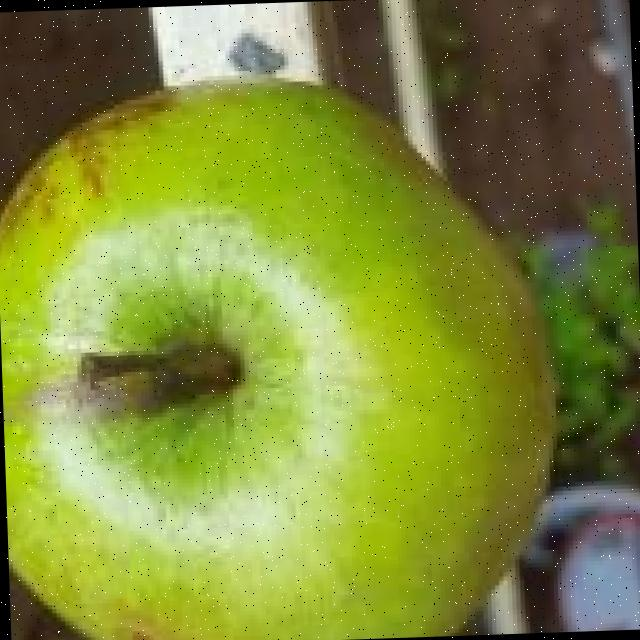Good_Apple 10-21 days: (0, 84, 553, 640)
